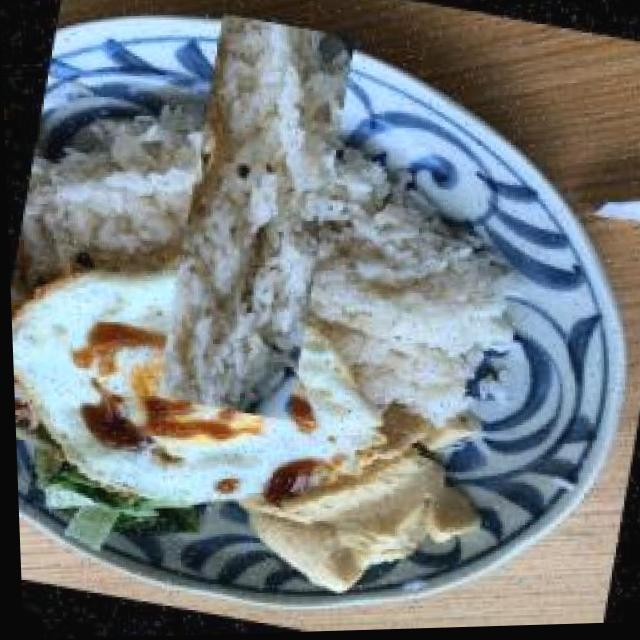fried_eggs: (7, 233, 398, 549)
rice: (95, 61, 414, 378)
